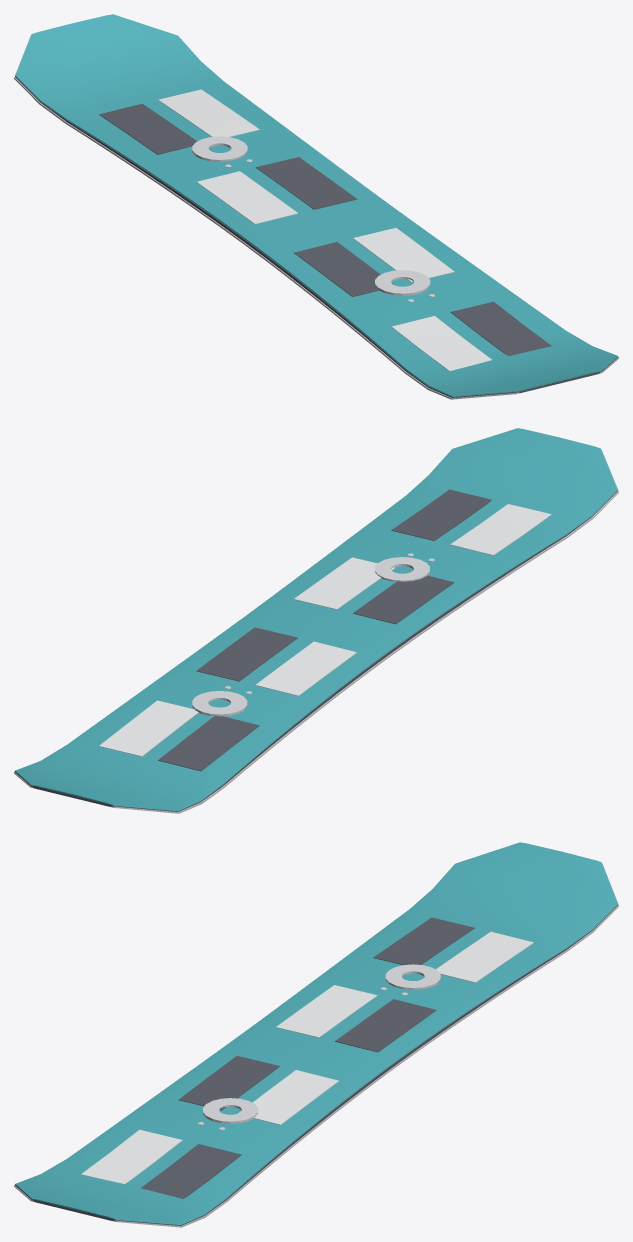
The model's file is snowboard-gear-and-freestyle-riders-wide-board-tiles-e92a3b6c__27144.glb.
3 renders of one model, top to bottom at view 1: azimuth 30°, elevation 25°; view 2: azimuth 150°, elevation 25°; view 3: azimuth 330°, elevation 25°, orthographic.
Visible parts, largest first — view 1: wide-board-tiles; view 2: wide-board-tiles; view 3: wide-board-tiles.
Part boxes in pixels (x1,y1,x2,y2): wide-board-tiles: (14, 14, 618, 399); wide-board-tiles: (14, 428, 618, 813); wide-board-tiles: (14, 842, 618, 1227).
Bounding box in the file's own units: 0.3182 × 0.0505 × 1.6.
